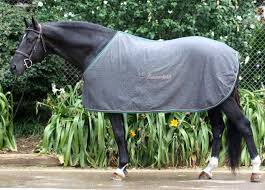Horse: (4, 16, 259, 175)
